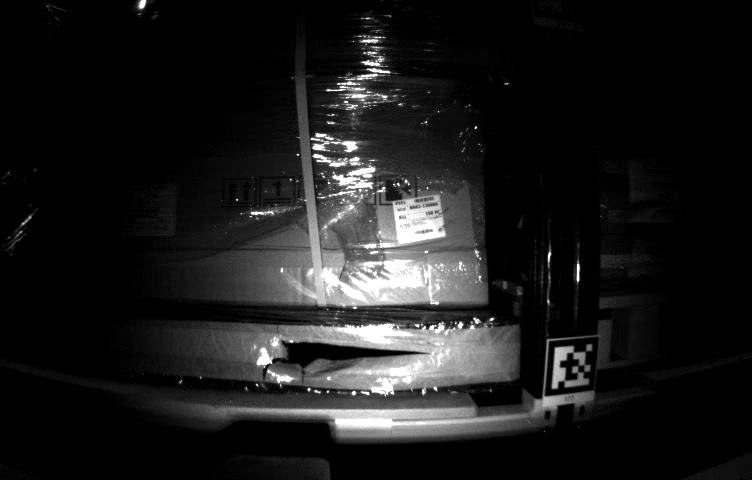True Barcode: (391, 189, 444, 242)
